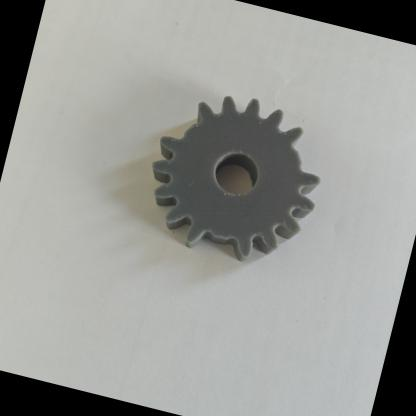defect: (170, 196, 270, 288), (148, 76, 240, 172), (265, 109, 352, 200)
gear: (103, 60, 368, 320)
